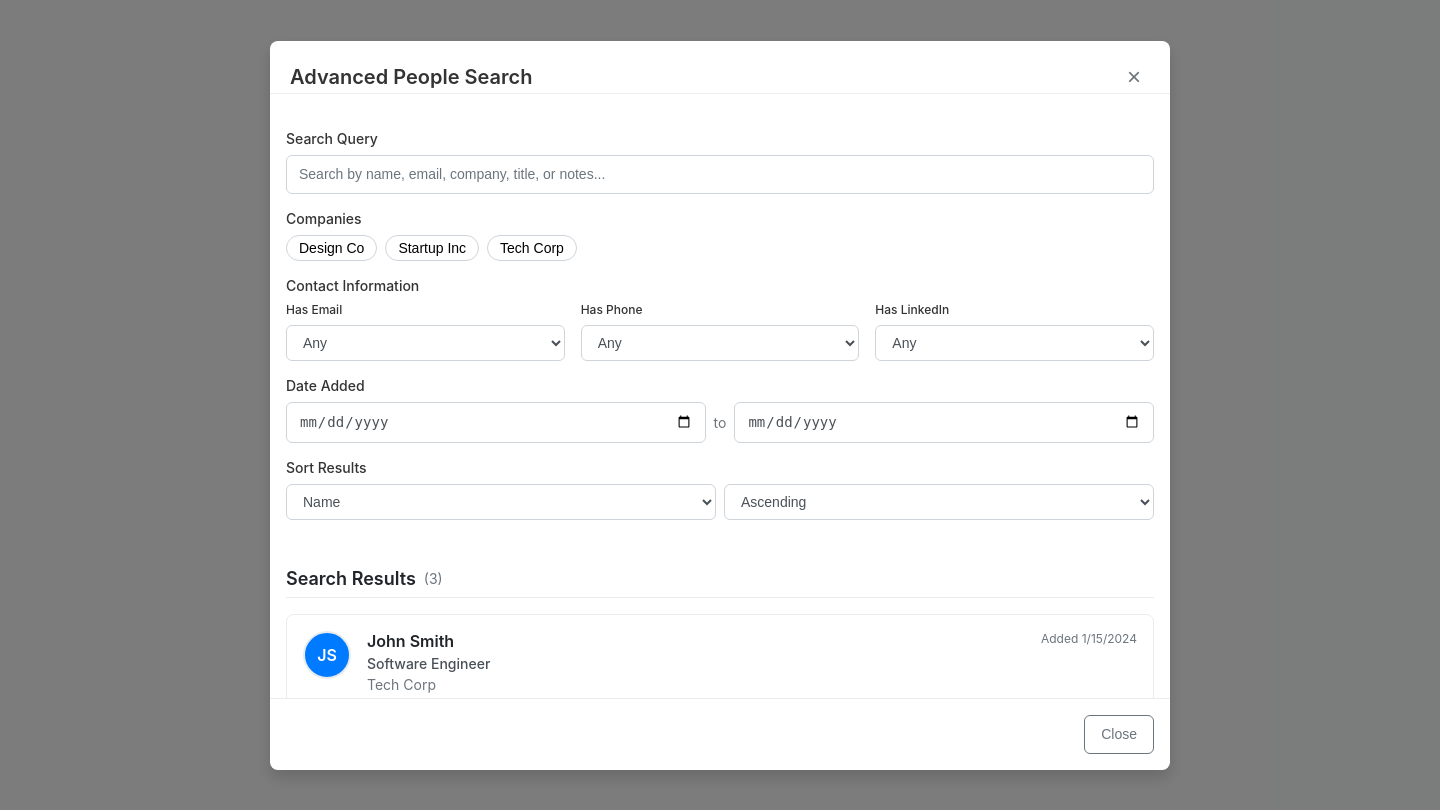
Test case: PeopleSearch › clears all filters when clear button is clicked
Step 1. Type "test" into the field with placeholder "Search by name, email, company, title, or notes..." → (720, 174), box [286,154,1154,194]
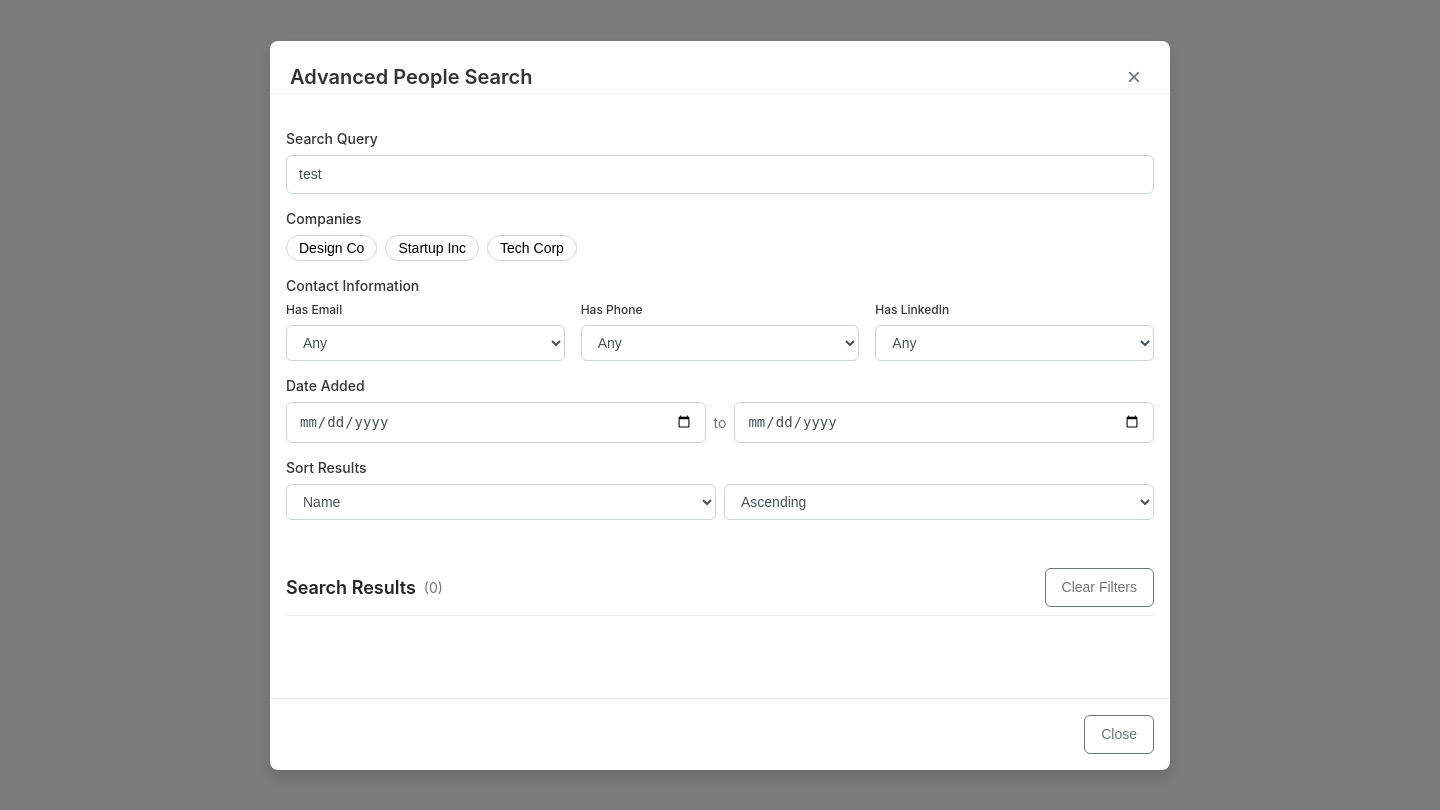
Step 2. Click the button "Tech Corp" → (532, 248), box [487,234,577,260]
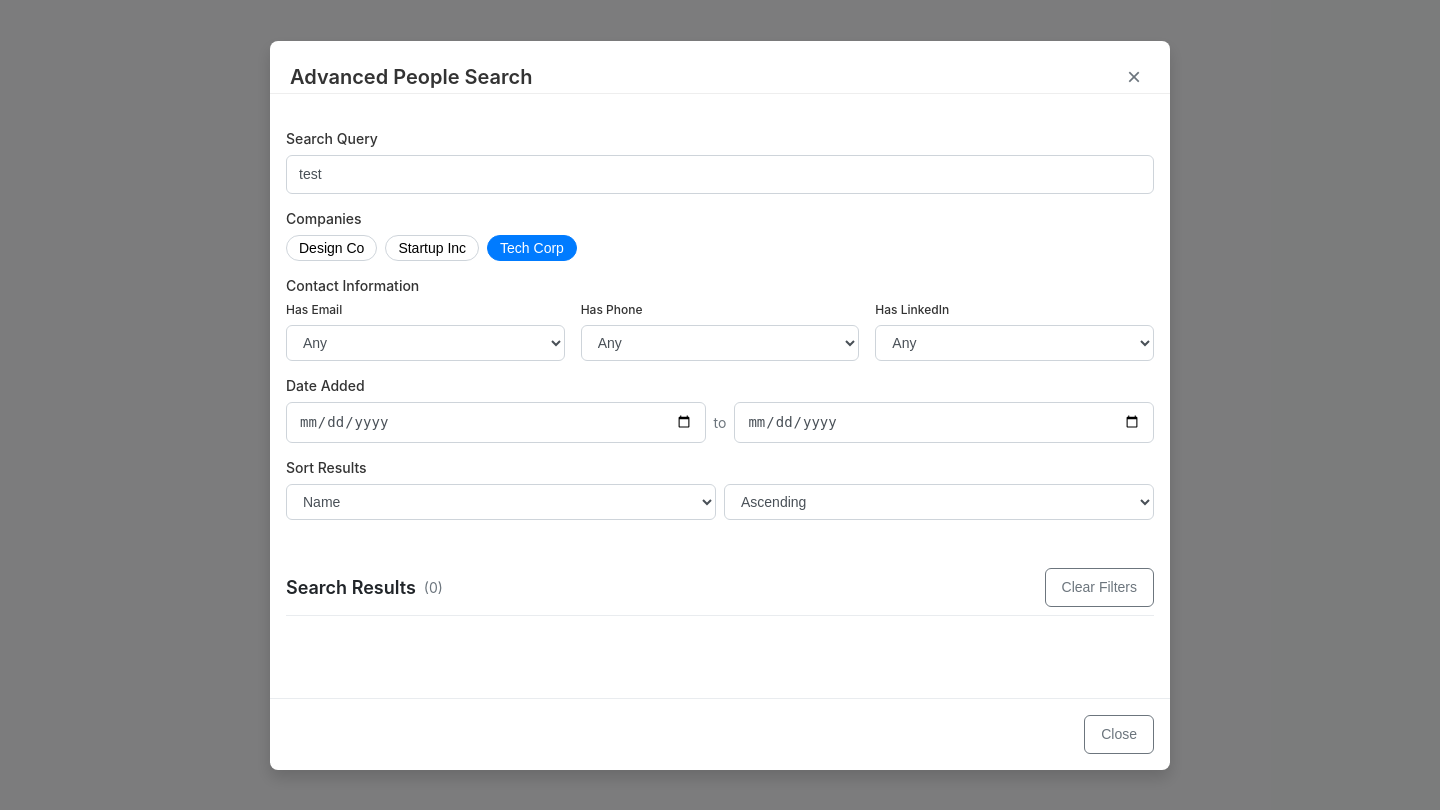
Step 3. Click the button "Clear Filters" → (1099, 587), box [1044,568,1154,606]
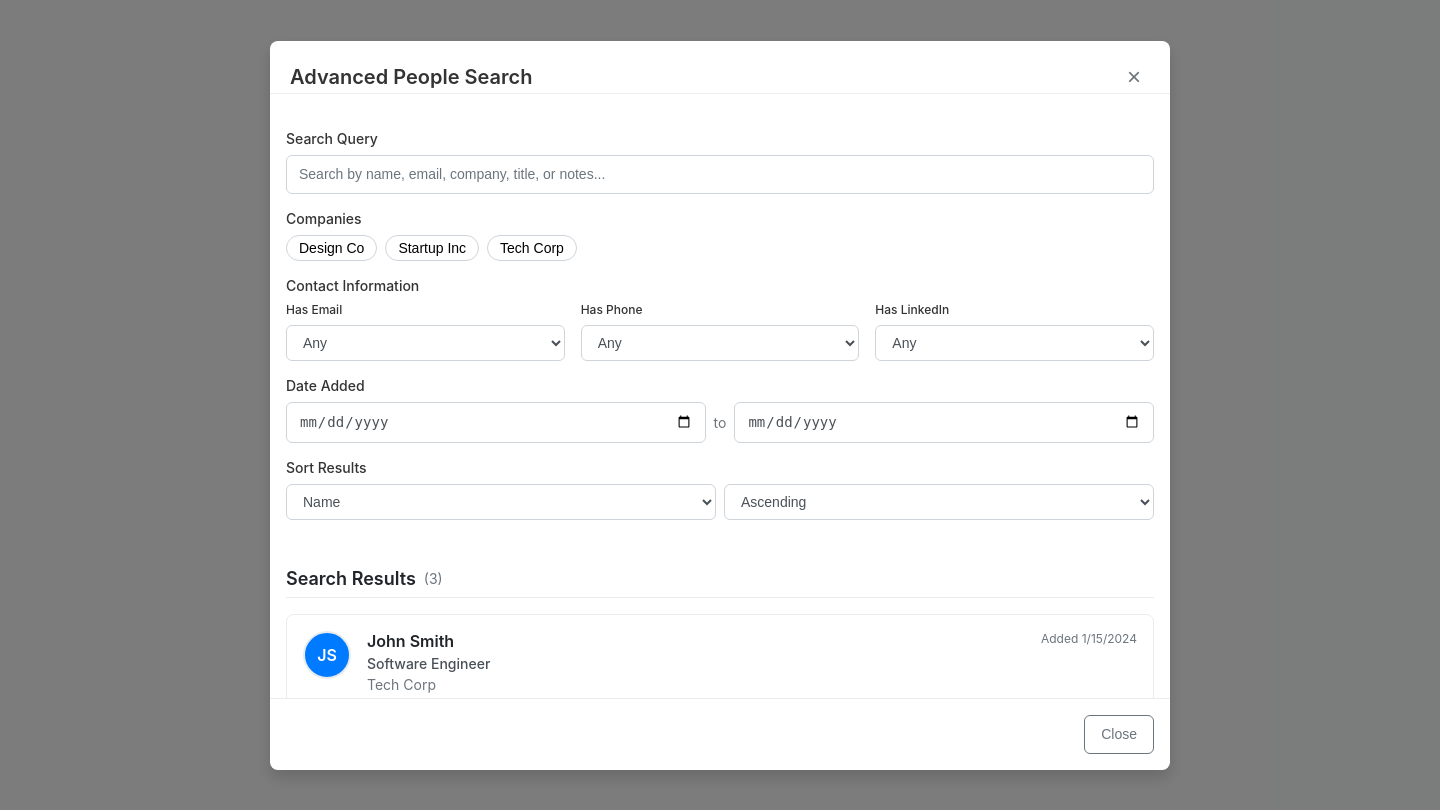
expect the field with placeholder "Search by name, email, company, title, or notes..." is empty: met, box [286,154,1154,194]
